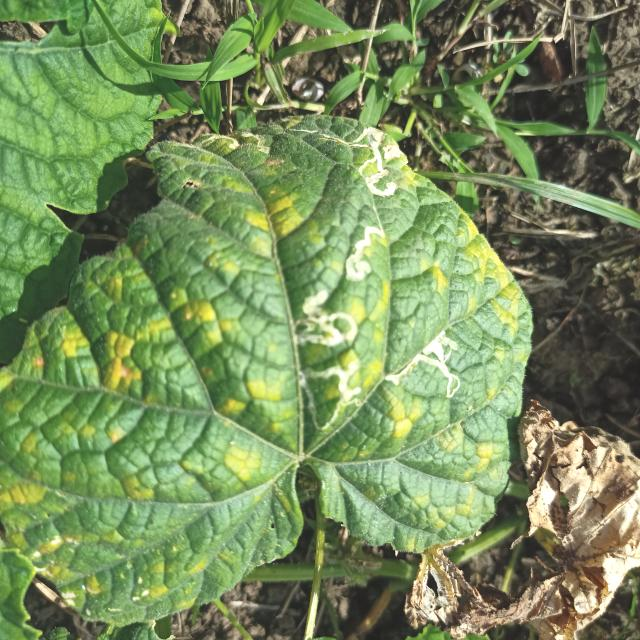disease_cucumber: (35, 134, 513, 610)
